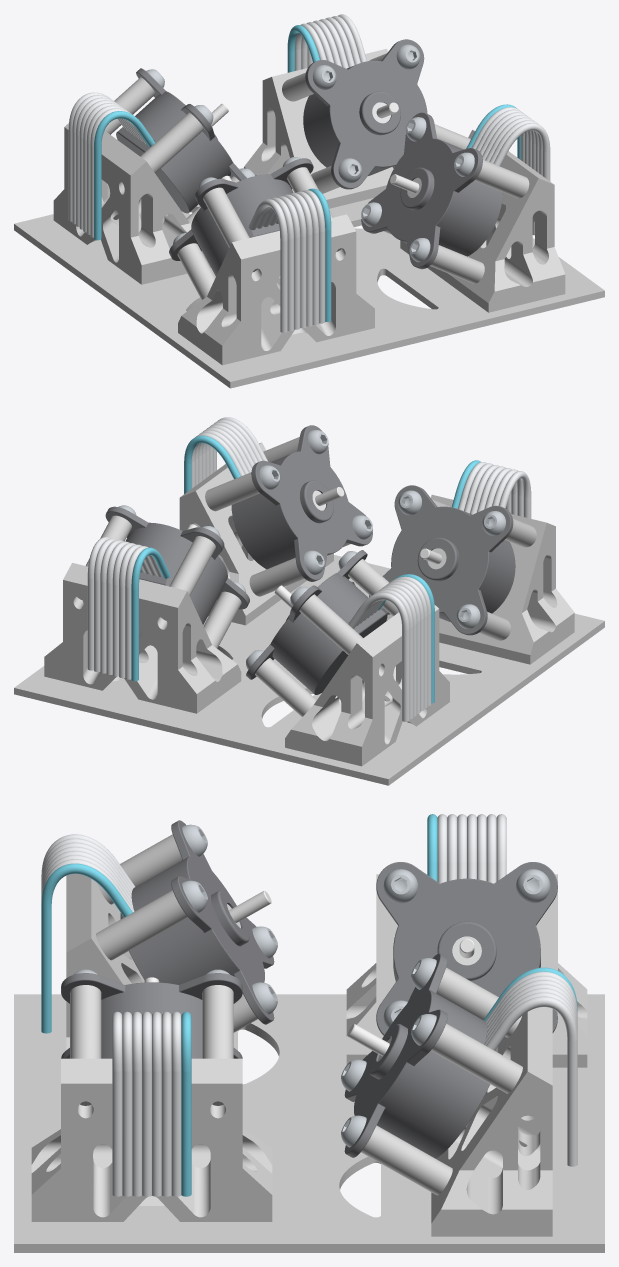
3 views of the same model, one above another, from view 1: azimuth 30°, elevation 25°; view 2: azimuth 150°, elevation 25°; view 3: azimuth 270°, elevation 25° (orthographic). The views are drawn at different scales.
Parts seen in each view (by area): view 1: Take Two ASM; view 2: Take Two ASM; view 3: Take Two ASM.
Part boxes in pixels (x1,y1,x2,y2): Take Two ASM: (14,14,604,388); Take Two ASM: (14,417,604,785); Take Two ASM: (14,814,604,1252).
Size of the model in its own units: 4.73 by 1.87 by 4.73.
